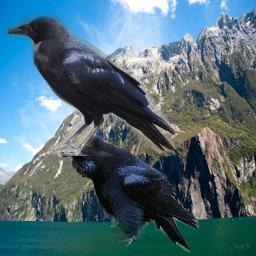Crow: (5, 13, 175, 156), (60, 133, 199, 253)
